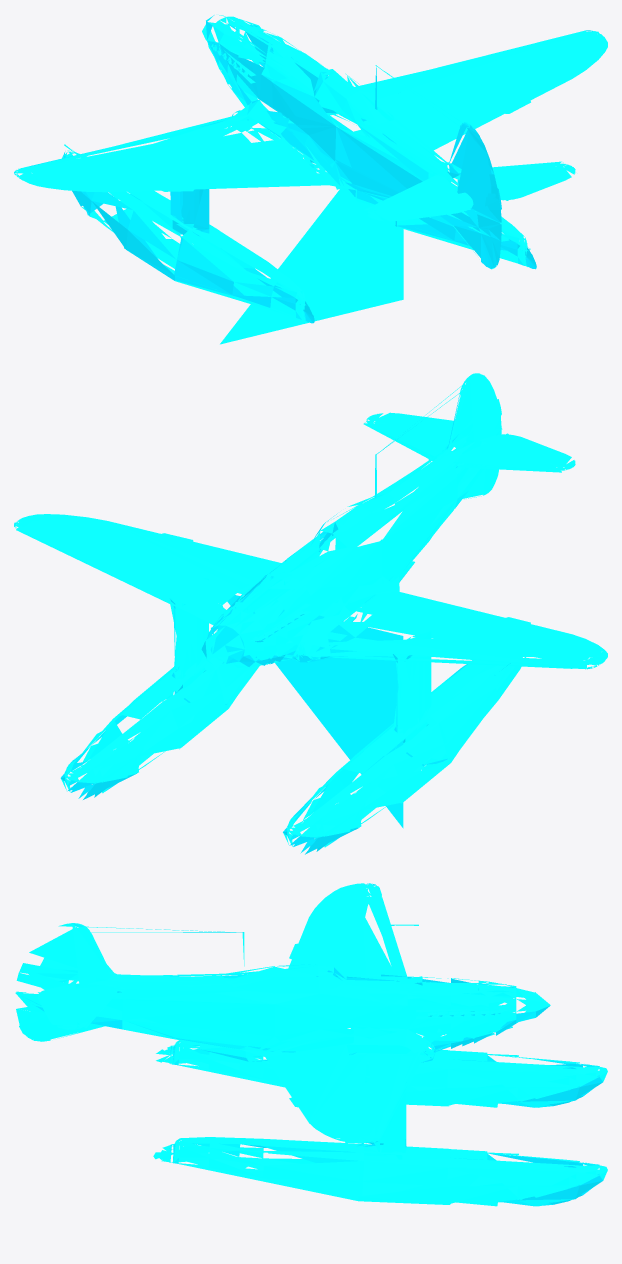
The model's file is PRAF017.glb.
3 views of the same model, one above another, from view 1: azimuth 30°, elevation 25°; view 2: azimuth 150°, elevation 25°; view 3: azimuth 270°, elevation 25° (orthographic). The views are drawn at different scales.
Visible parts, largest first — view 1: misc; view 2: misc; view 3: misc.
Boxes of the visible parts, left/top/right/bottom form: misc: left=14, top=15, right=607, bottom=344; misc: left=14, top=373, right=607, bottom=854; misc: left=15, top=883, right=607, bottom=1206.
Size of the model in its own units: 0.6493 by 0.3339 by 0.6287.
